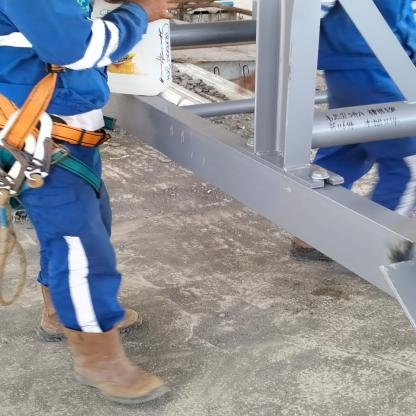bota: (64, 322, 167, 408)
